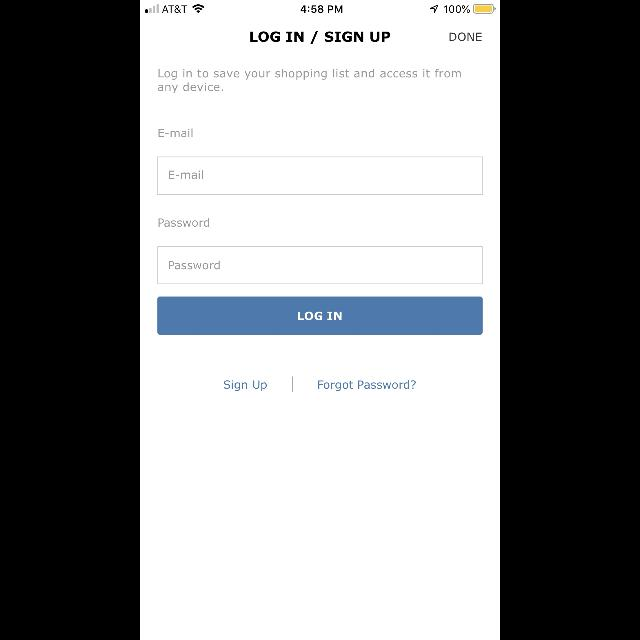input: (158, 247, 482, 285), (158, 157, 482, 195)
text: (158, 69, 460, 93), (250, 32, 390, 44), (318, 381, 416, 392), (170, 260, 220, 270), (225, 381, 267, 392), (158, 219, 210, 227), (169, 170, 203, 180), (159, 128, 193, 138), (450, 33, 482, 41)
textbutton: (158, 297, 482, 335)
uppertaskbar: (140, 0, 500, 14)
